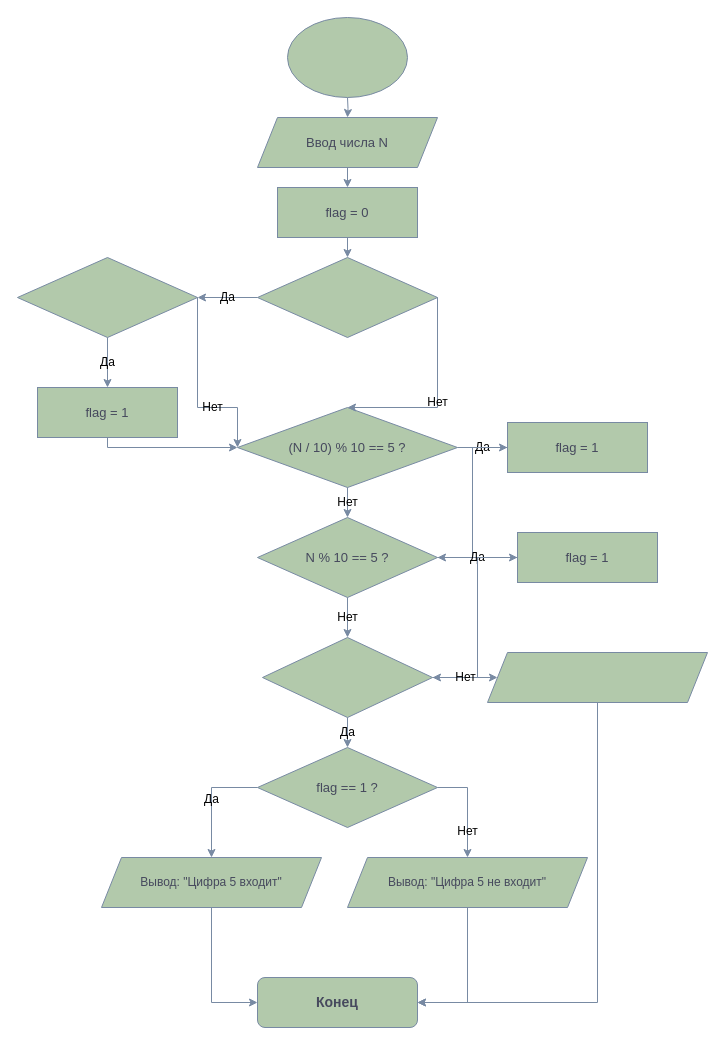
The diagram is 725 pixels wide and 1045 high, and some of its shapes have lost their labels. The centre of each missing label's shape, as x and y in pixels:
N / 100 == 5 ?: point (107, 297)
N < 1000 ?: point (347, 677)
N >= 100 ?: point (347, 297)
Вывод: "Неизвестное число": point (597, 677)
Начало: point (347, 57)
